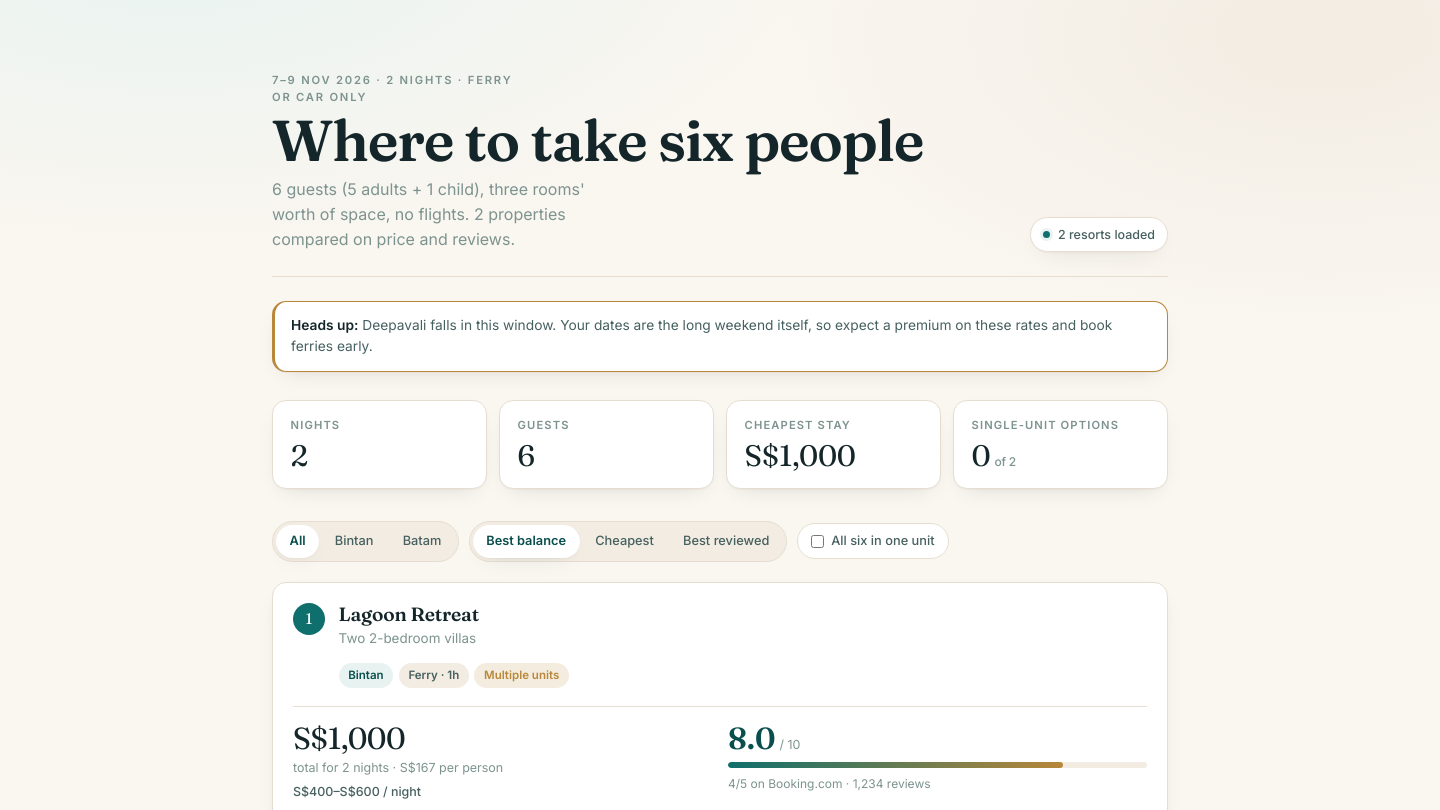
App filters › narrows the list to one destination
Click the button "Batam" at (422, 541), box 389,525 -> 455,558
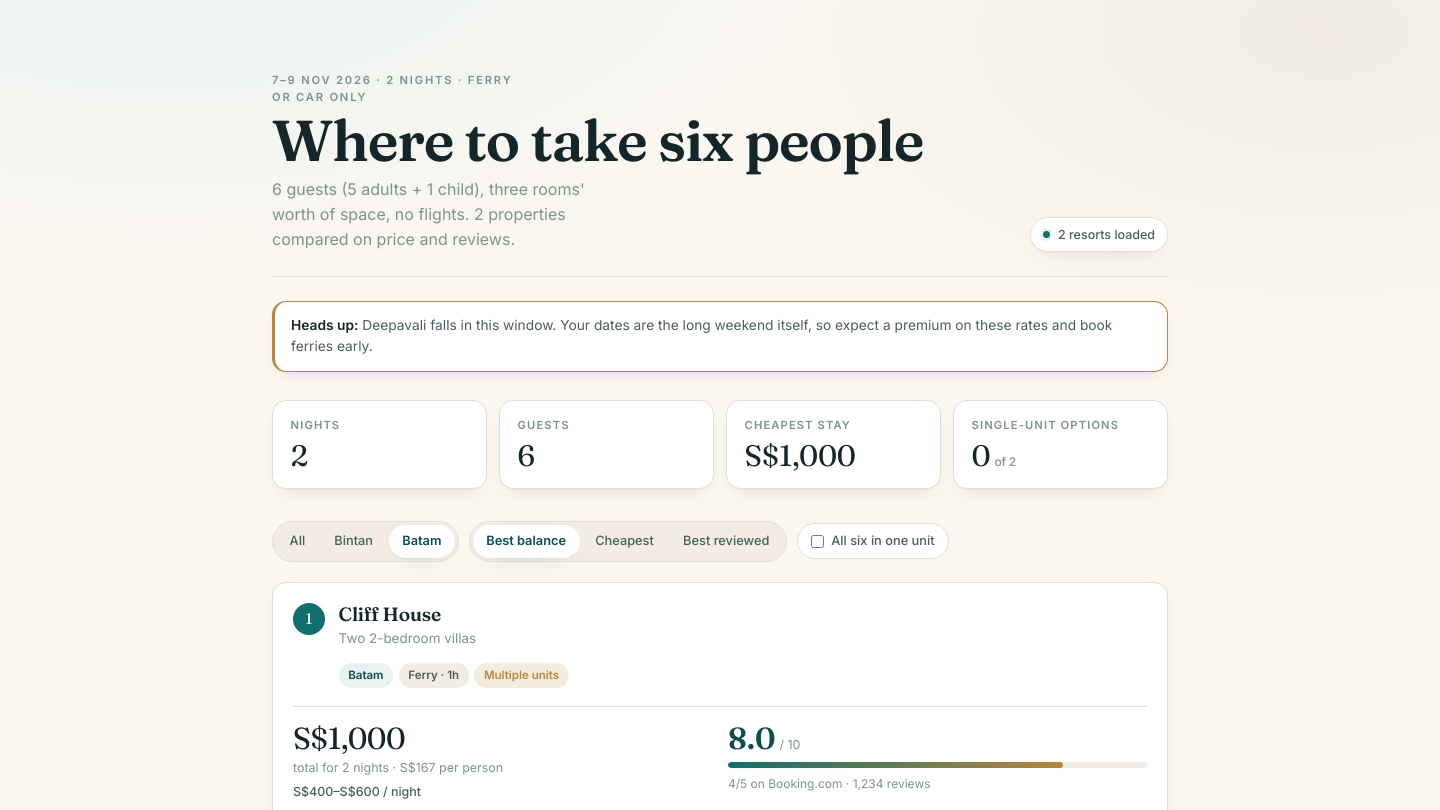
Expected: the heading "Cliff House" is shown, 339,602 -> 441,626
Now the heading "Lagoon Retreat" is gone
